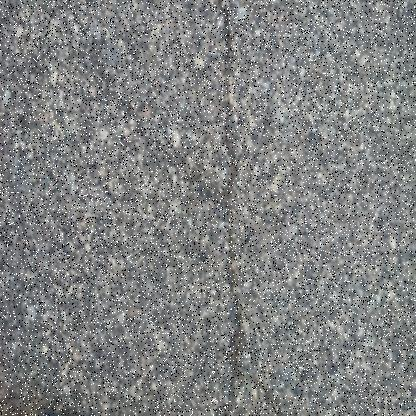Cracks: (209, 0, 248, 416)
